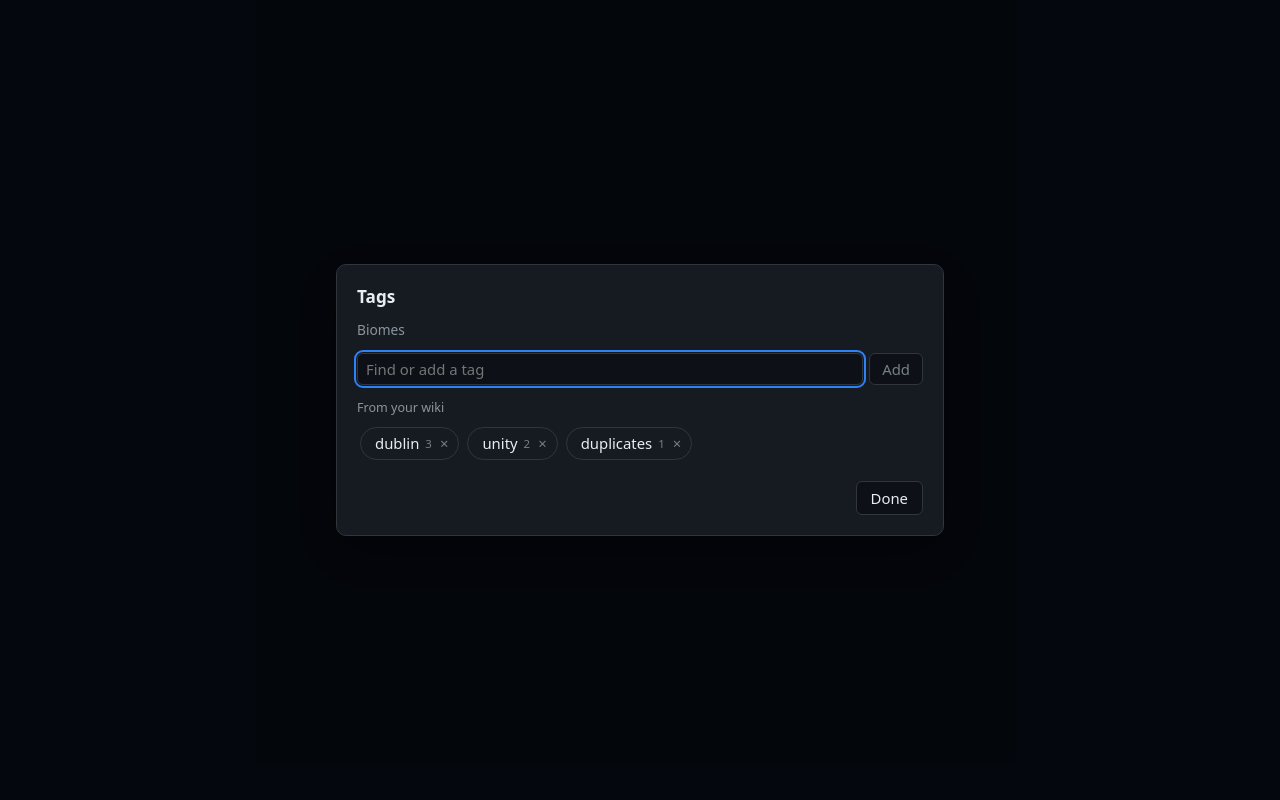
Test case: tags borrowed from the wiki › says nothing where the wiki has no such word
Type "ireland" into the field labelled "Find or add a tag" at point(610, 369), box [357,353,863,385]
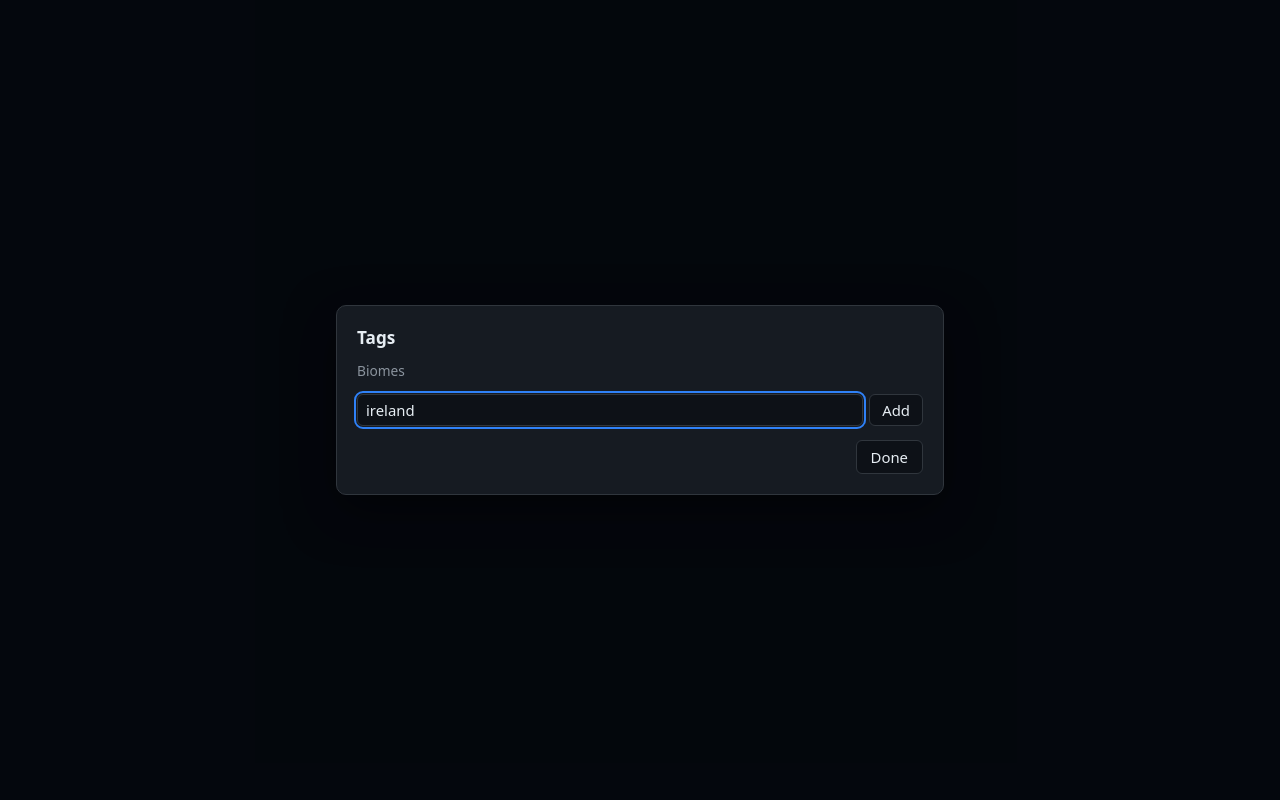
Expected: the text "From your wiki" is gone
